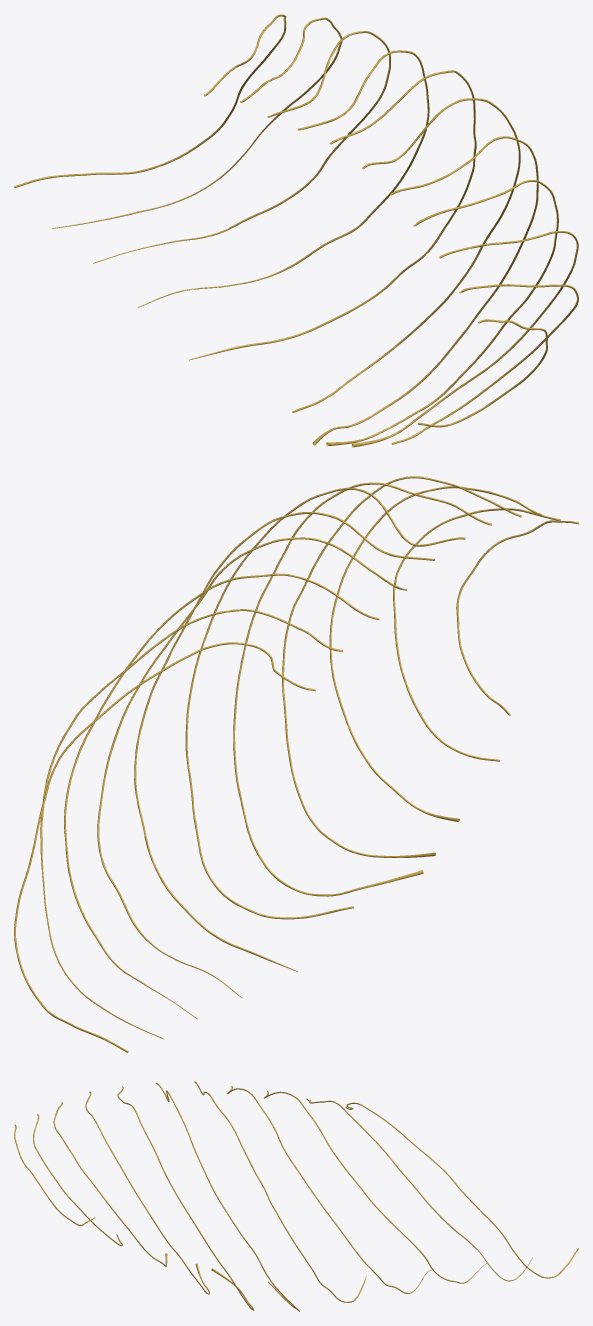
3 views of the same model, one above another, from view 1: azimuth 30°, elevation 25°; view 2: azimuth 150°, elevation 25°; view 3: azimuth 270°, elevation 25° (orthographic). The views are drawn at different scales.
Parts seen in each view (by area): view 1: 左侧肋间神经; view 2: 左侧肋间神经; view 3: 左侧肋间神经.
Boxes of the visible parts, x1=… form: 左侧肋间神经: x1=14, y1=14, x2=578, y2=447; 左侧肋间神经: x1=14, y1=476, x2=578, y2=1052; 左侧肋间神经: x1=14, y1=1081, x2=578, y2=1311.
Size of the model in its own units: 0.1845 by 0.2882 by 0.6685.
